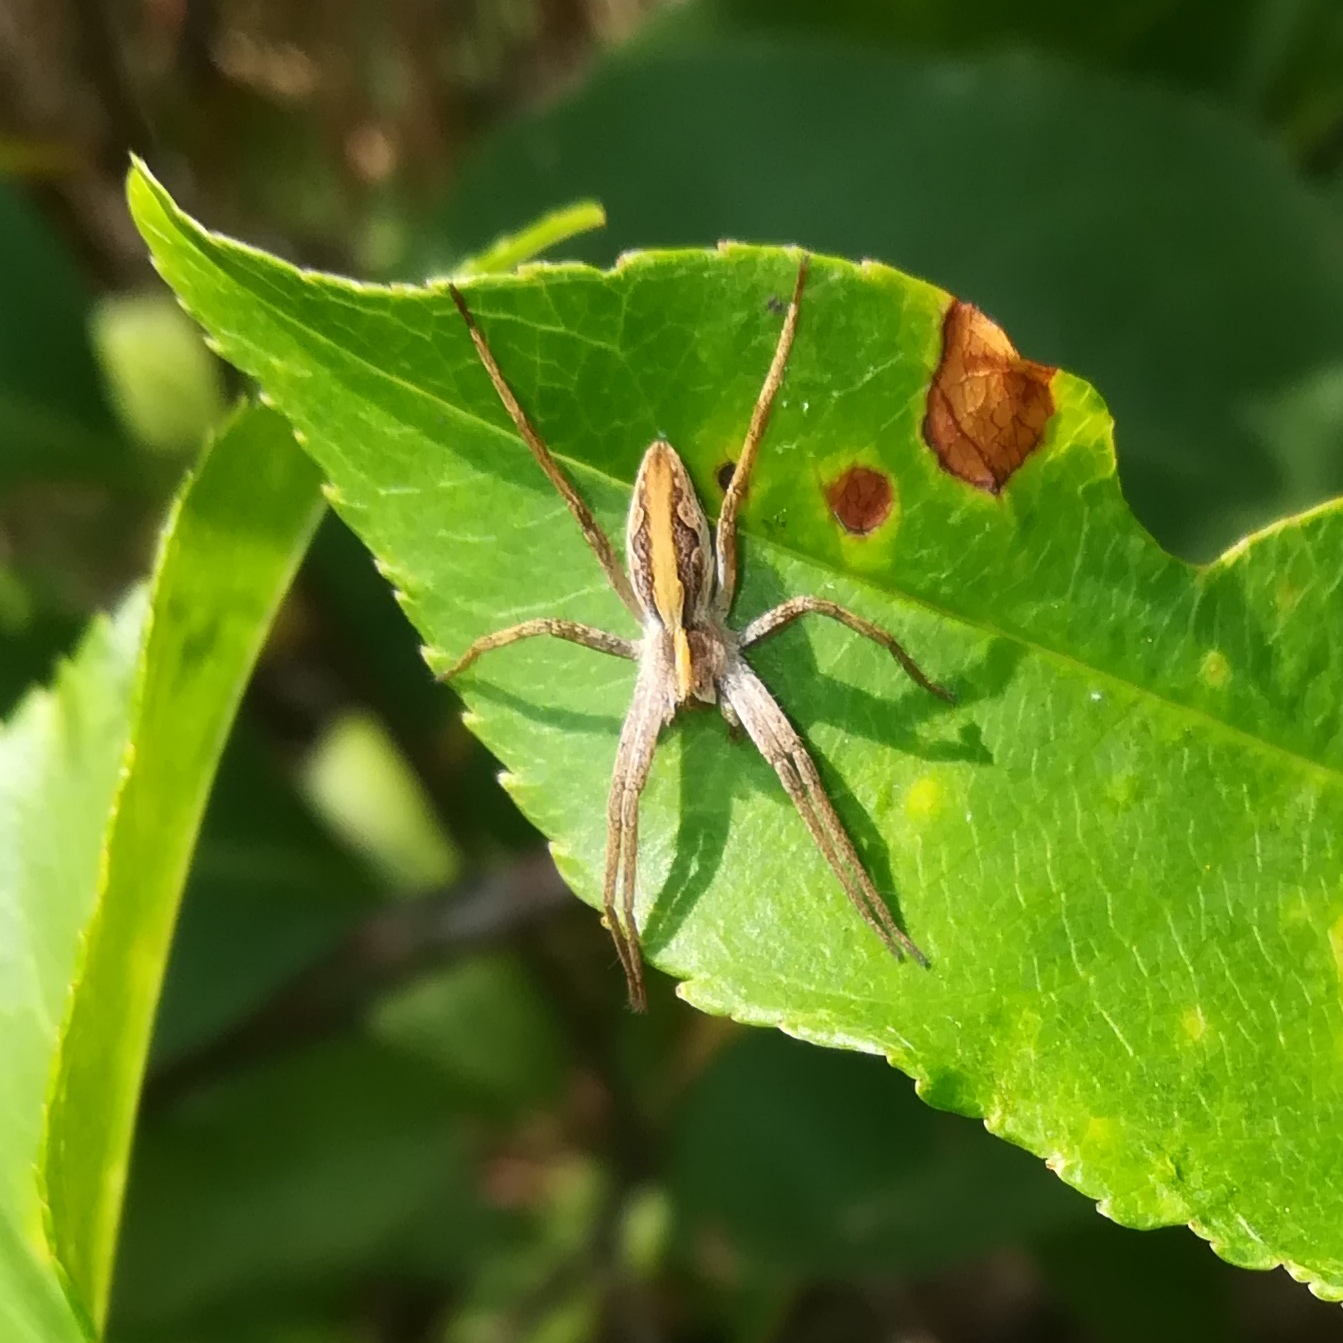spider: (351, 232, 1049, 1042)
